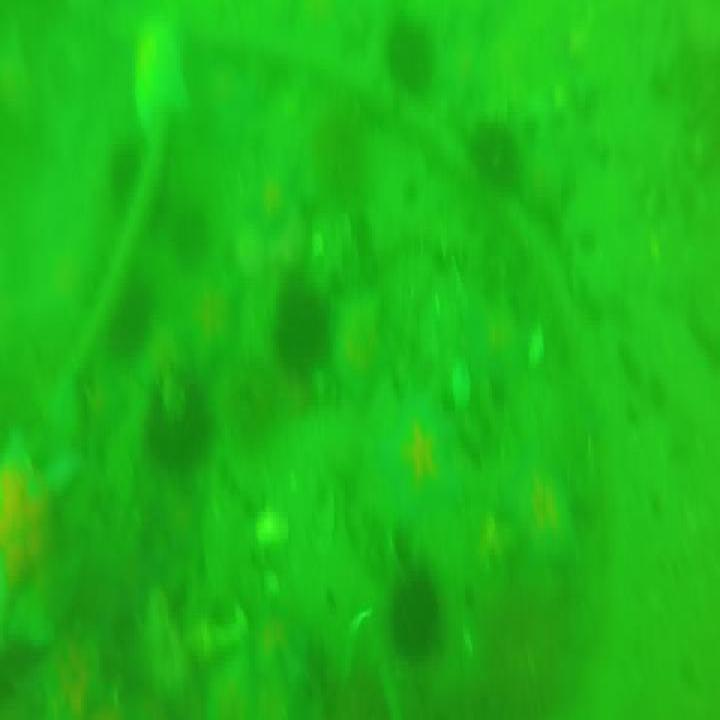echinus: (383, 388, 468, 528), (514, 459, 579, 576), (273, 279, 340, 388), (145, 380, 212, 473), (393, 569, 442, 663), (464, 114, 525, 185), (385, 16, 430, 94), (109, 284, 150, 350), (164, 214, 206, 270), (109, 138, 141, 202)
scallop: (258, 510, 291, 550)
starfish: (0, 428, 47, 602)
